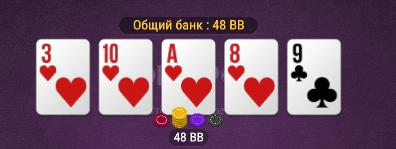10h: (99, 41, 152, 115)
3h: (36, 39, 89, 114)
8h: (225, 40, 278, 114)
9c: (289, 41, 340, 113)
Ah: (162, 40, 215, 114)
